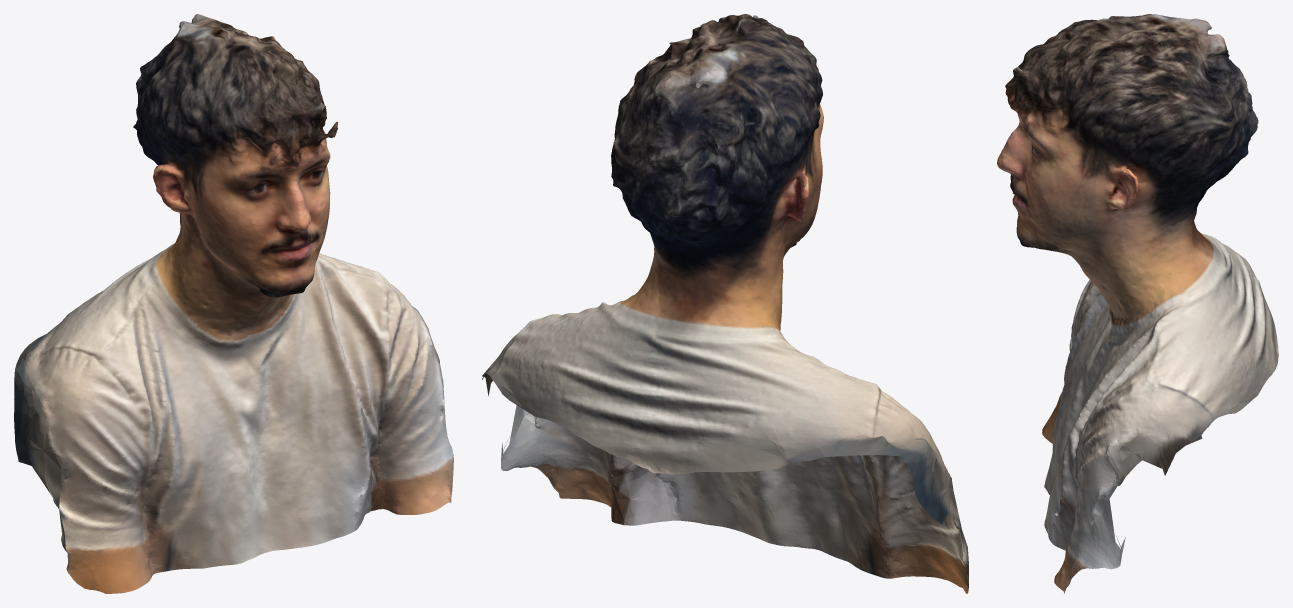
Rendered from Riccardo.obj.
The picture shows the model from 3 angles, left to right: view 1: azimuth 30°, elevation 25°; view 2: azimuth 150°, elevation 25°; view 3: azimuth 270°, elevation 25°; orthographic projection. The views are drawn at different scales.
Visible parts, largest first — view 1: mesh; view 2: mesh; view 3: mesh.
Boxes of the visible parts, x1,y1,x2,y2 form: mesh: (14, 14, 453, 593); mesh: (482, 14, 968, 593); mesh: (997, 14, 1278, 593).
Size of the model in its own units: 0.5118 by 0.578 by 0.3036.
1 material, 1 textured.
